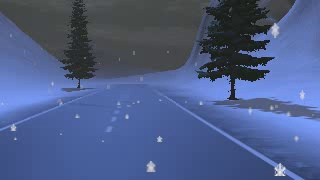Lane: (0, 83, 298, 179)
